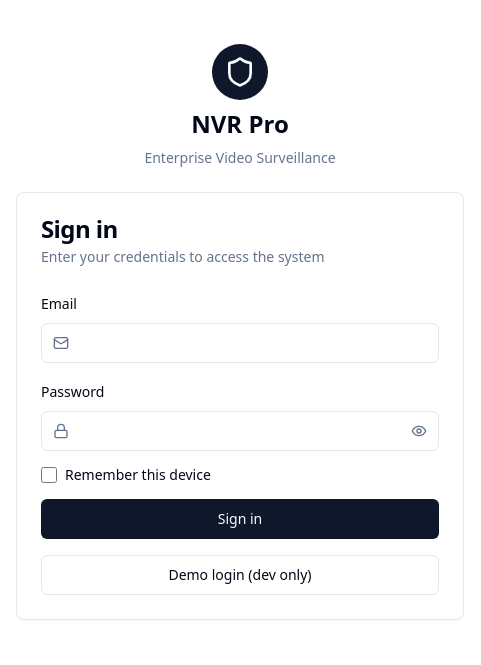
Scenario: Login › shows validation errors for empty submit
The width and height of the screenshot is (481, 665).
Click the button "Sign in": coordinates (240, 519) [41,499,439,539]
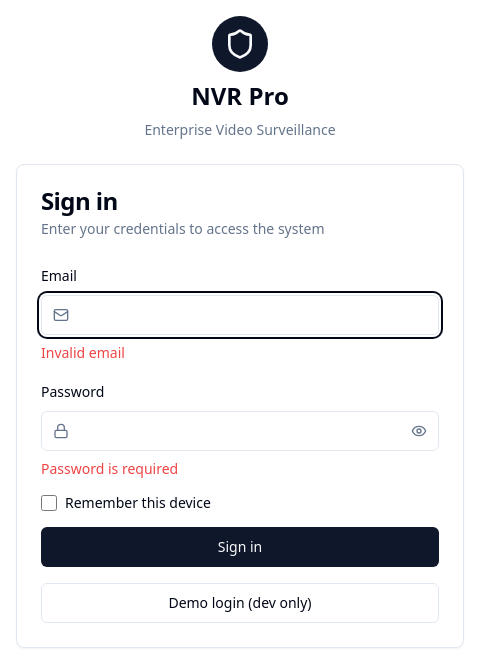
Expected: the text "Invalid email" is shown, [41,343,125,362]
